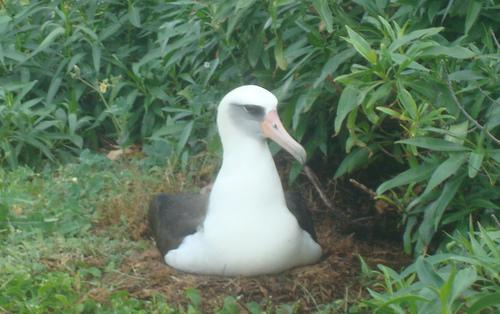002.Laysan_Albatross: (148, 85, 332, 281)
